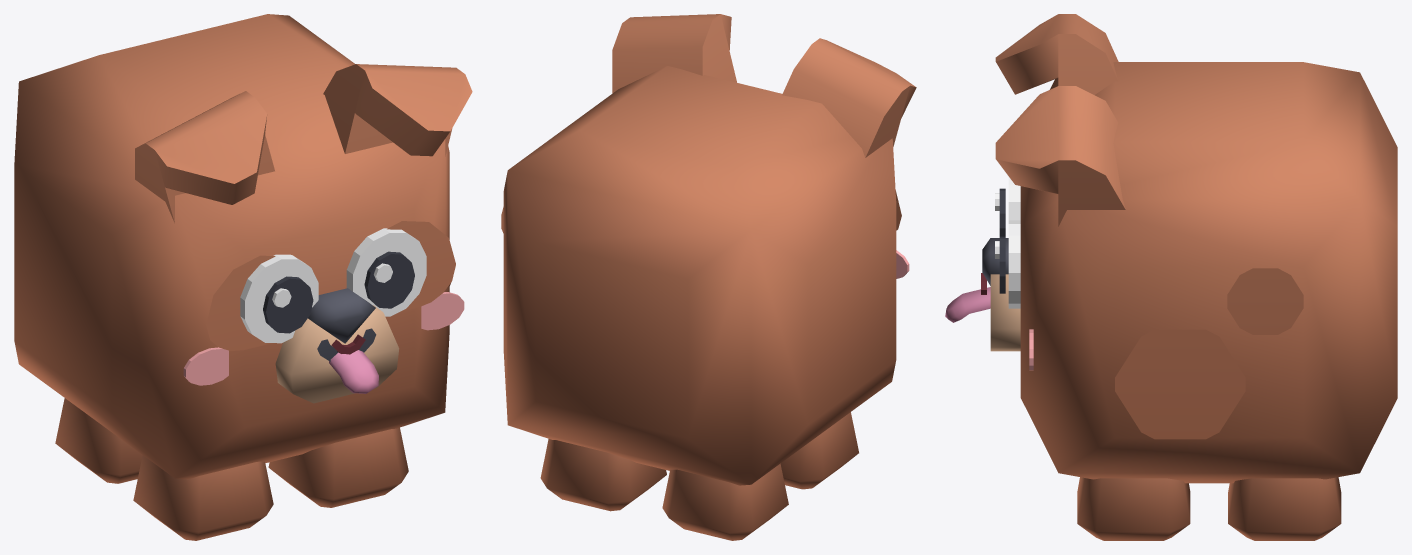
The model's file is dog.glb.
3 views of the same model, side by side, from view 1: azimuth 30°, elevation 25°; view 2: azimuth 150°, elevation 25°; view 3: azimuth 270°, elevation 25° (orthographic). The views are drawn at different scales.
Visible parts, largest first — view 1: body, leg-front-right, leg-front-left, leg-back-right; view 2: body, leg-back-right, leg-back-left, leg-front-right; view 3: body, leg-back-left, leg-front-left.
Boxes of the visible parts, x1,y1,x2,y2 form: body: [14, 14, 472, 479]; leg-front-right: [133, 455, 273, 540]; leg-front-left: [268, 427, 408, 507]; leg-back-right: [55, 398, 142, 483]; body: [501, 14, 916, 485]; leg-back-right: [662, 463, 788, 540]; leg-back-left: [540, 439, 666, 511]; leg-front-right: [780, 412, 858, 489]; body: [945, 14, 1397, 483]; leg-back-left: [1228, 477, 1341, 540]; leg-front-left: [1077, 477, 1190, 540].
Size of the model in its own units: 1.26 by 1.58 by 1.5.
Materials: 1 (1 with a texture image).
